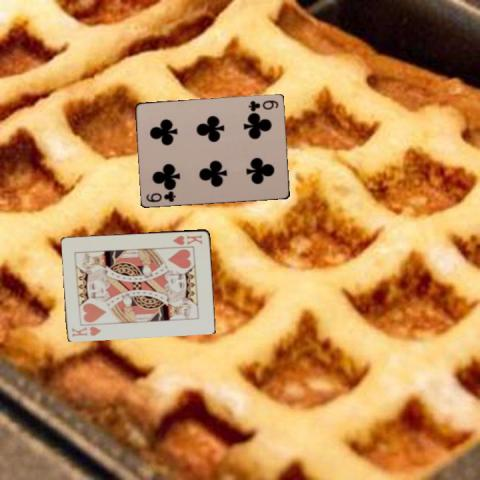6c: (144, 188, 177, 204), (245, 98, 280, 112)
Kh: (68, 323, 103, 338), (170, 231, 204, 246)
